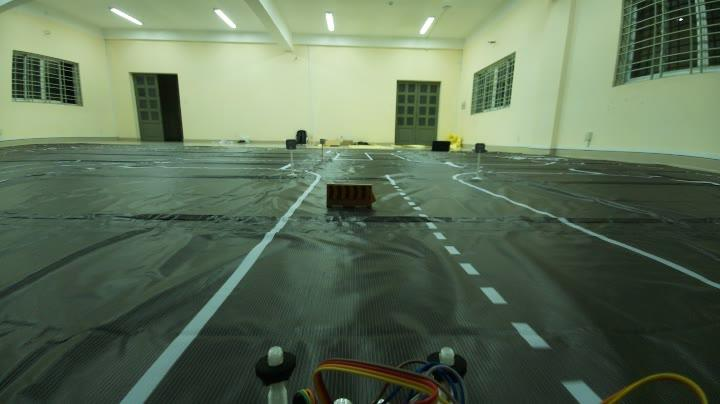roadblock: (322, 176, 382, 224)
